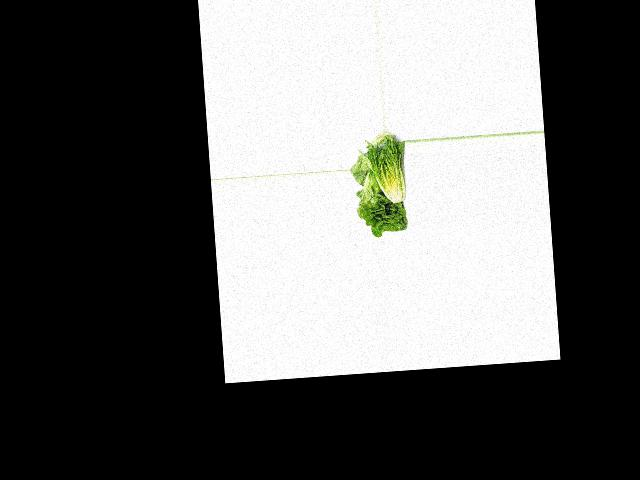lettuce: (354, 171, 411, 236)
